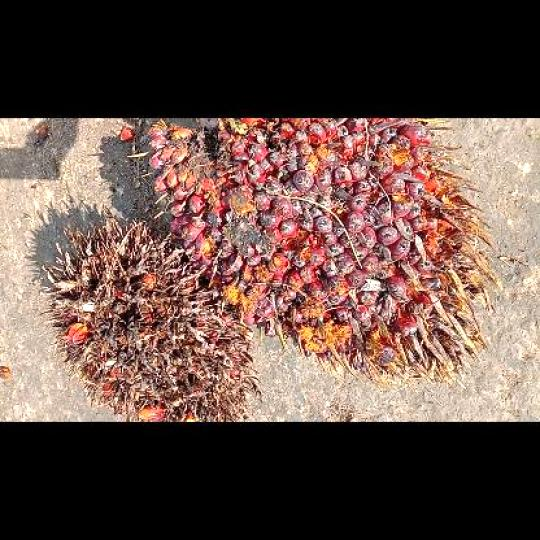masak: (148, 118, 501, 386)
terlalu masak: (44, 210, 260, 421)
